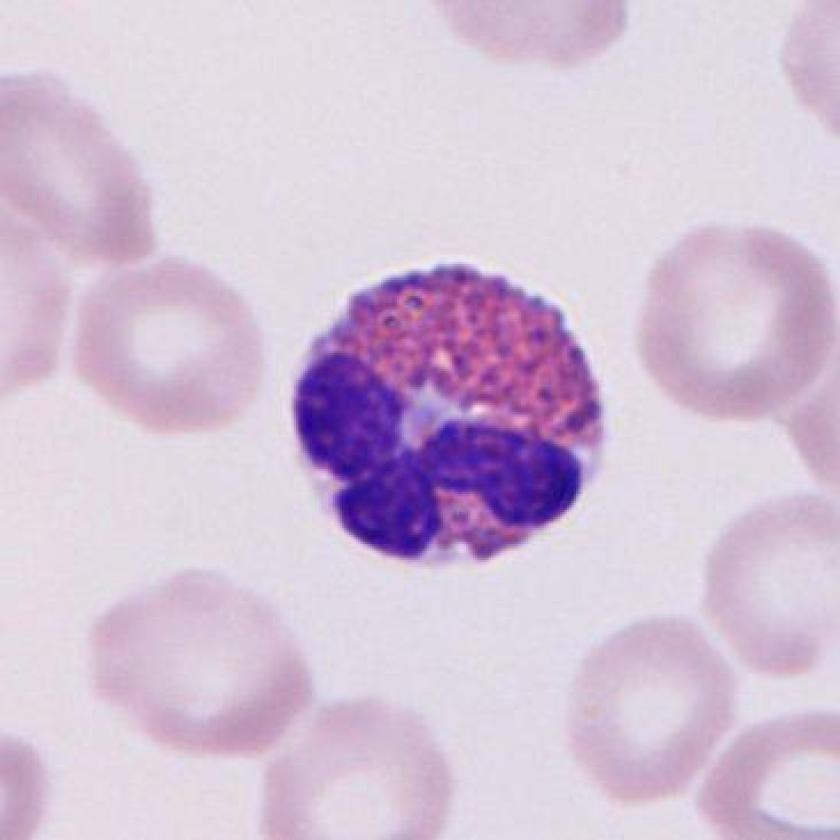eosinophil: (276, 247, 623, 581)
